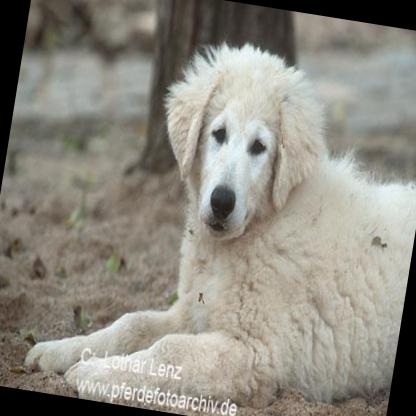kuvasz: (17, 11, 416, 416)
